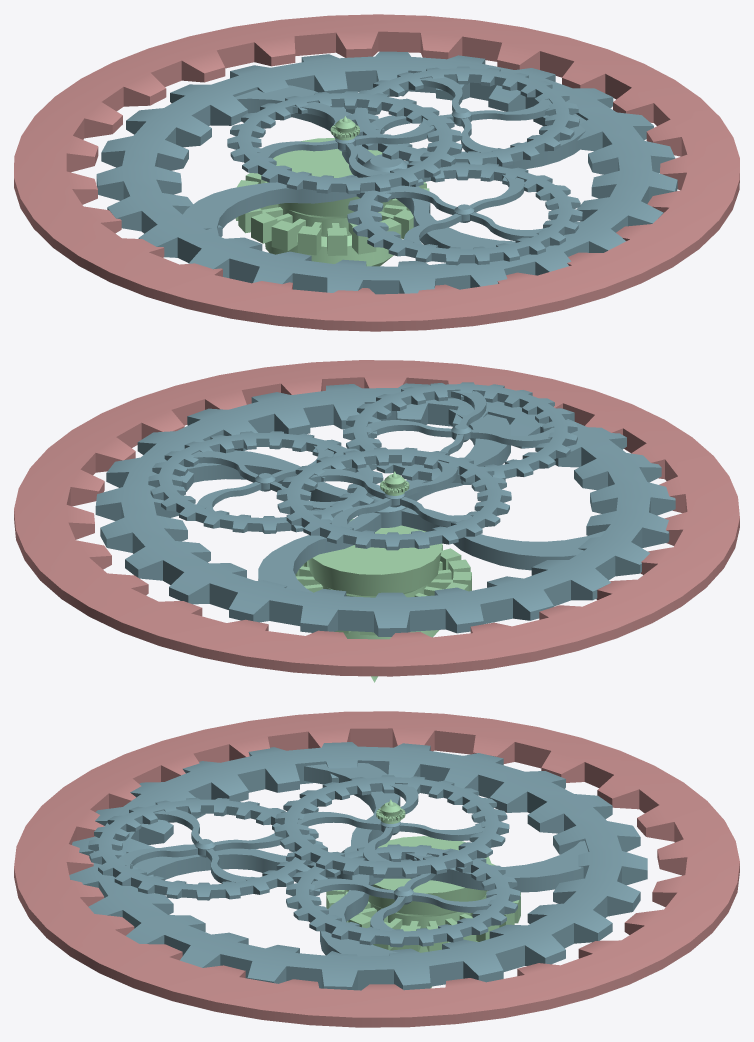
File: Cogs.fbx
3 views of the same model, one above another, from view 1: azimuth 30°, elevation 25°; view 2: azimuth 150°, elevation 25°; view 3: azimuth 270°, elevation 25° (orthographic).
Parts seen in each view (by area): view 1: SmallCogs, LargeCog, PointyThing; view 2: SmallCogs, LargeCog, PointyThing; view 3: SmallCogs, LargeCog, PointyThing.
Part boxes in pixels (x1=…): SmallCogs: x1=96, y1=51, x2=677, y2=294; LargeCog: x1=14, y1=14, x2=739, y2=331; PointyThing: x1=235, y1=138, x2=429, y2=266; SmallCogs: x1=95, y1=382, x2=675, y2=636; LargeCog: x1=14, y1=360, x2=739, y2=676; PointyThing: x1=295, y1=519, x2=471, y2=682; SmallCogs: x1=69, y1=742, x2=647, y2=990; LargeCog: x1=14, y1=711, x2=739, y2=1027; PointyThing: x1=326, y1=836, x2=520, y2=987.
Bounding box in the file's own units: 203 × 61.9 × 203.
